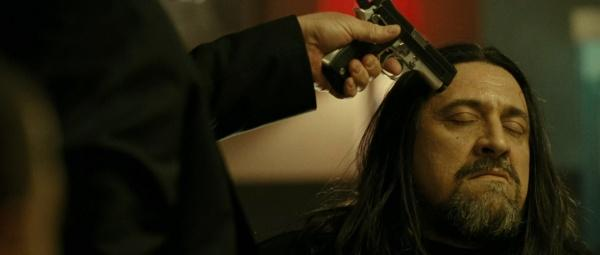Gun: (320, 0, 457, 100)
